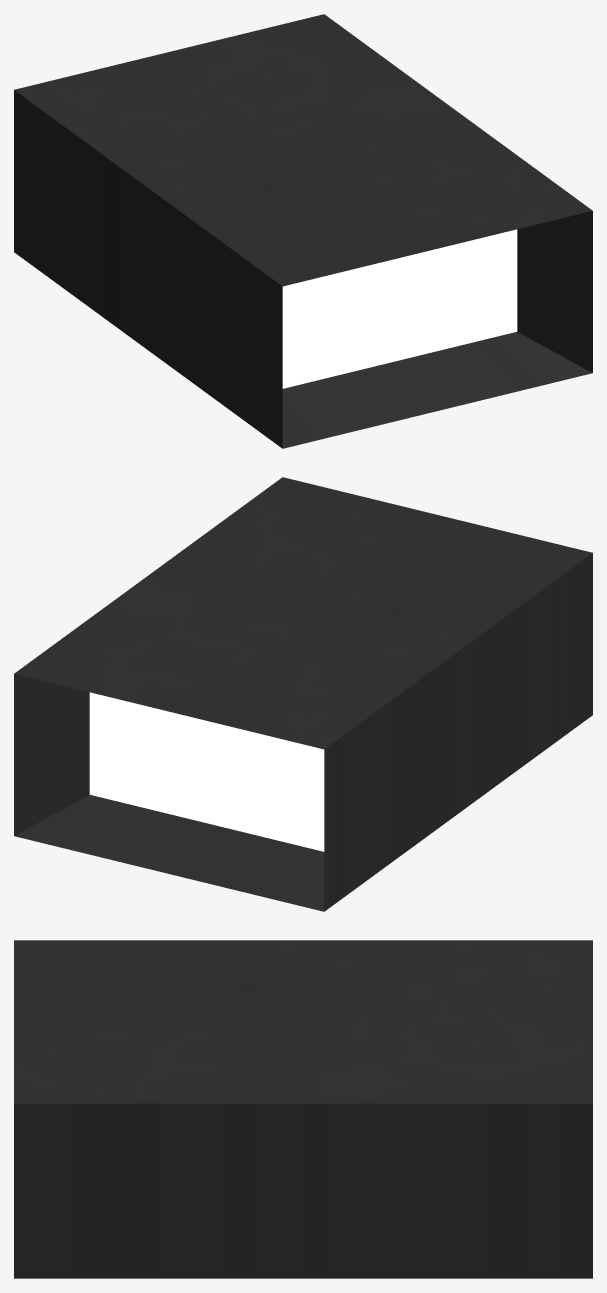
Rendered from house_modernlampwallmount.glb.
3 renders of one model, top to bottom at view 1: azimuth 30°, elevation 25°; view 2: azimuth 150°, elevation 25°; view 3: azimuth 270°, elevation 25°, orthographic. The views are drawn at different scales.
Visible parts, largest first — view 1: ModernLampWallMount; view 2: ModernLampWallMount; view 3: ModernLampWallMount.
Boxes of the visible parts, bbox=[...] form: ModernLampWallMount: bbox=[14, 14, 592, 448]; ModernLampWallMount: bbox=[14, 477, 592, 911]; ModernLampWallMount: bbox=[14, 940, 592, 1278].
Size of the model in its own units: 20 by 10 by 30.
Materials: 2 (1 with a texture image).
